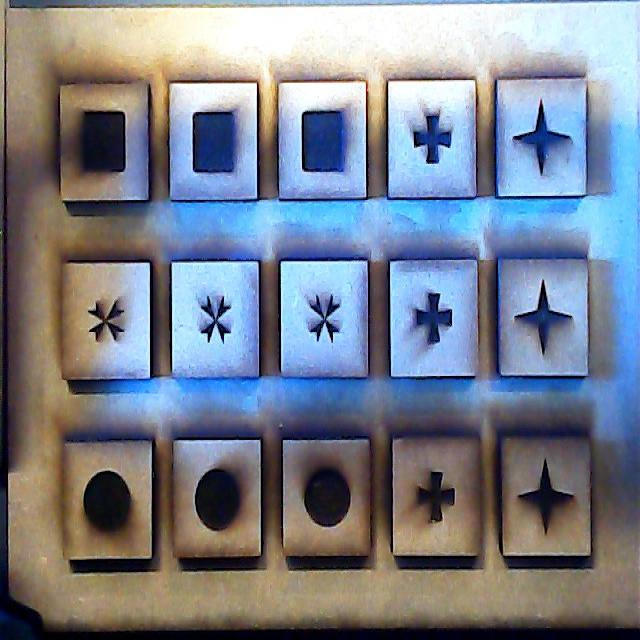circle: (64, 442, 155, 564), (172, 440, 261, 560), (286, 439, 372, 558)
maltese: (170, 261, 263, 382), (62, 261, 151, 383), (283, 258, 369, 379)
square: (57, 81, 151, 205), (168, 84, 259, 204), (279, 80, 367, 202)
star: (495, 255, 594, 376), (499, 437, 593, 558), (496, 80, 588, 198)
temple: (391, 435, 484, 561), (388, 75, 478, 200), (390, 258, 481, 378)
